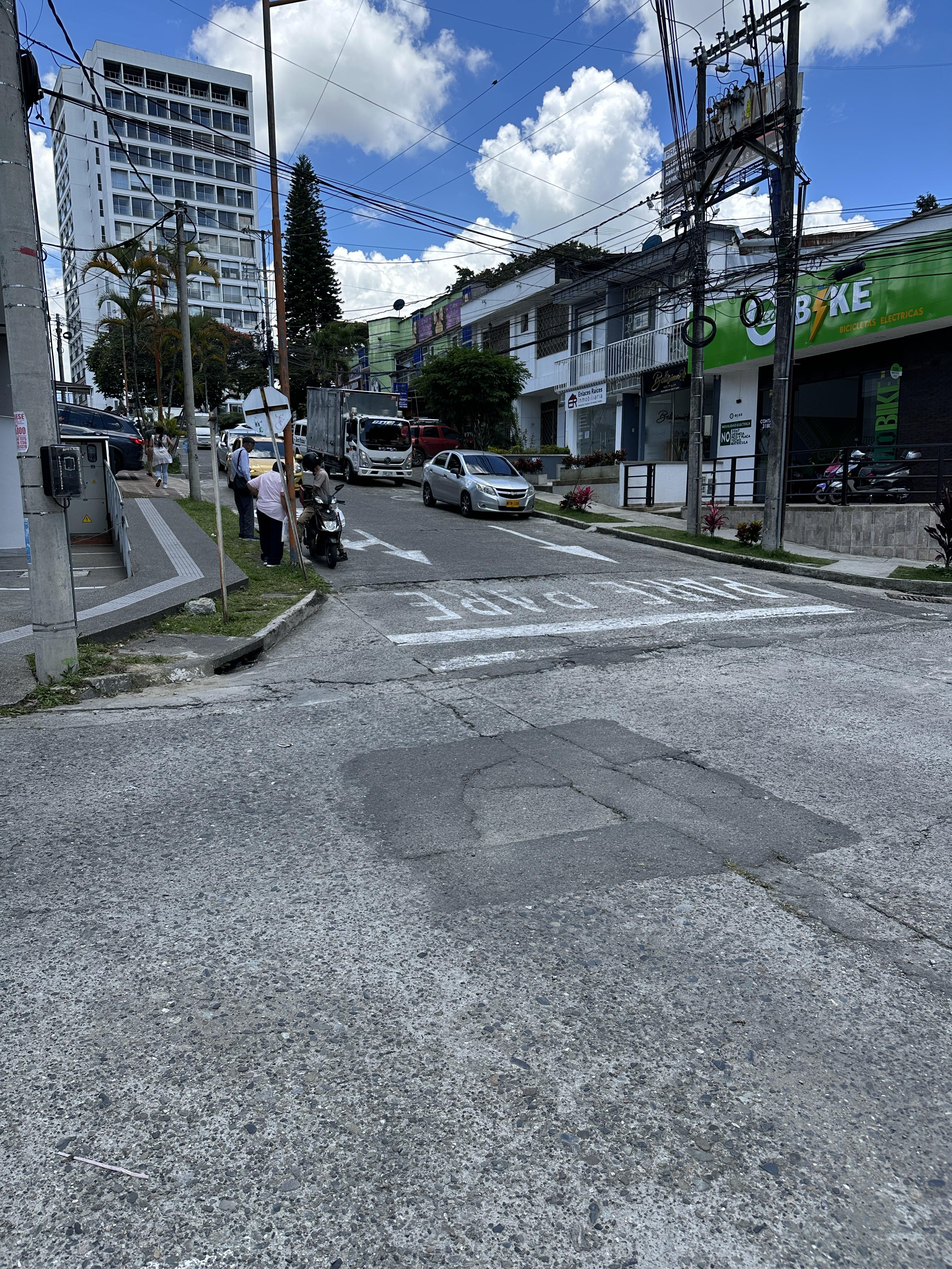bache: (341, 574, 566, 593), (56, 703, 209, 713), (631, 641, 718, 658), (553, 660, 576, 669)
grieta: (305, 657, 504, 745), (776, 856, 952, 951), (460, 756, 628, 838), (659, 750, 708, 771), (462, 668, 550, 679), (503, 634, 579, 646), (256, 679, 282, 693), (244, 694, 289, 702)
rejilla: (885, 592, 951, 604)
